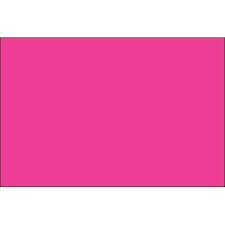pink_zone: (0, 36, 225, 188)
